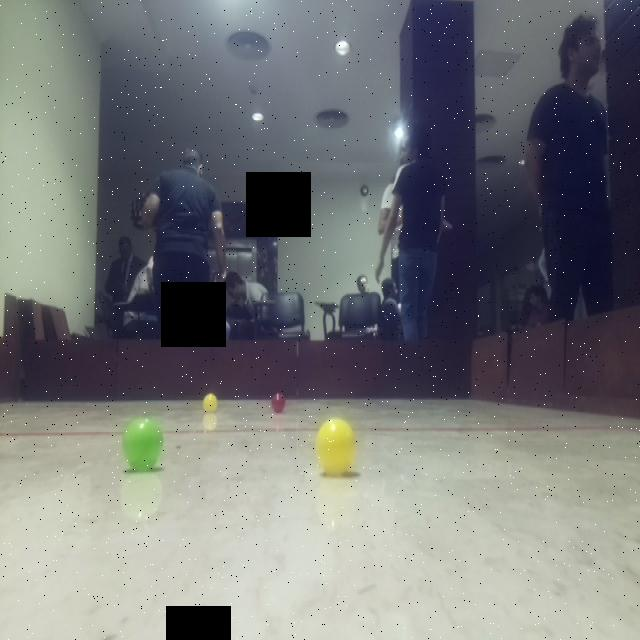ball: (201, 389, 222, 415), (270, 390, 288, 415)
